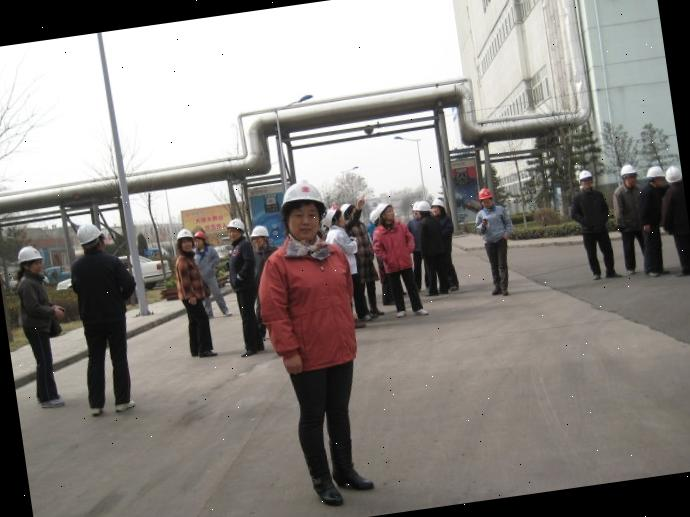helmet: (278, 178, 329, 210), (12, 242, 42, 265), (74, 221, 100, 246), (224, 216, 247, 232), (410, 198, 433, 214), (374, 200, 394, 217), (173, 226, 195, 241), (618, 162, 640, 176), (250, 224, 270, 238), (574, 167, 594, 181), (475, 188, 495, 200), (192, 229, 206, 240)
no_wear: (255, 236, 365, 381), (74, 254, 124, 327), (16, 274, 55, 344), (372, 222, 414, 274), (222, 237, 260, 288), (174, 250, 207, 304), (663, 184, 690, 238)
wear: (476, 205, 510, 243), (192, 243, 219, 279)
